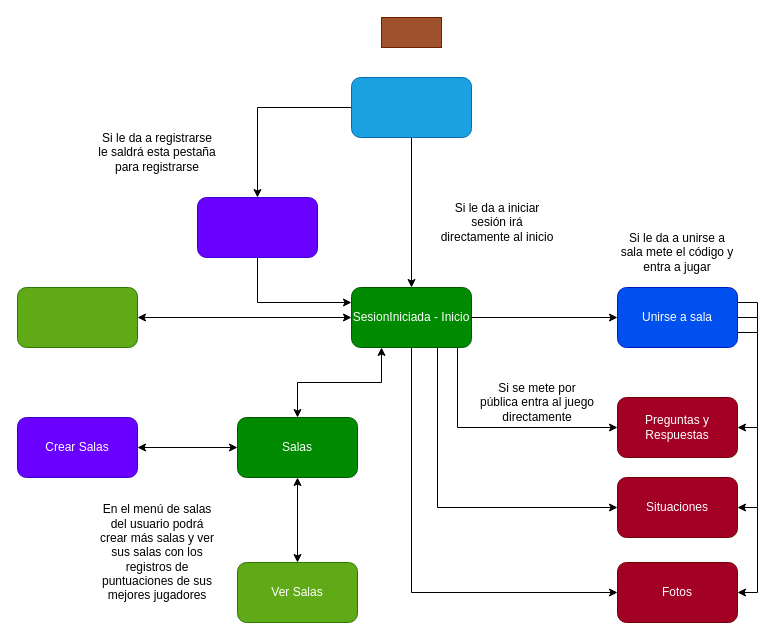
Some shapes in this 783 by 640 pixel diagram are drawn without their labels. Each missing label, with the box of its shape:
Inicio Sesión: (350, 76, 472, 138)
Ranking: (16, 286, 138, 348)
Registro: (196, 196, 318, 258)
USUARIO: (380, 16, 442, 48)
